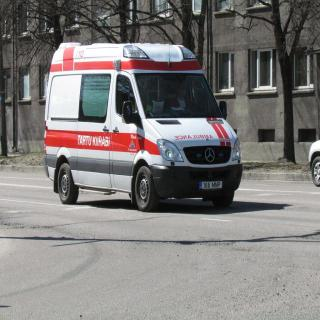Ambulance: (35, 35, 245, 209)
